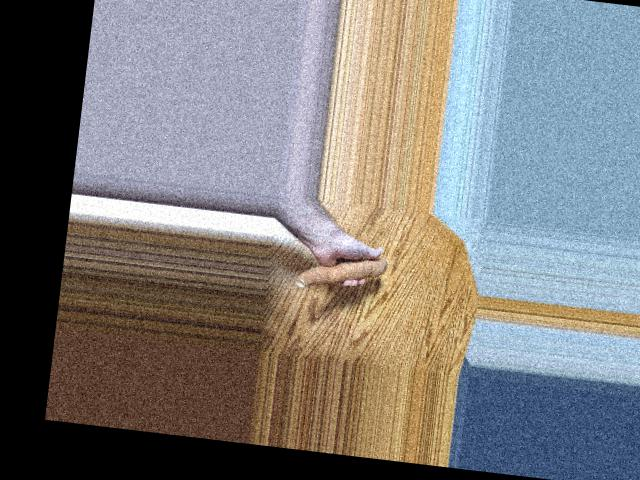sweet_potato: (297, 249, 389, 283)
